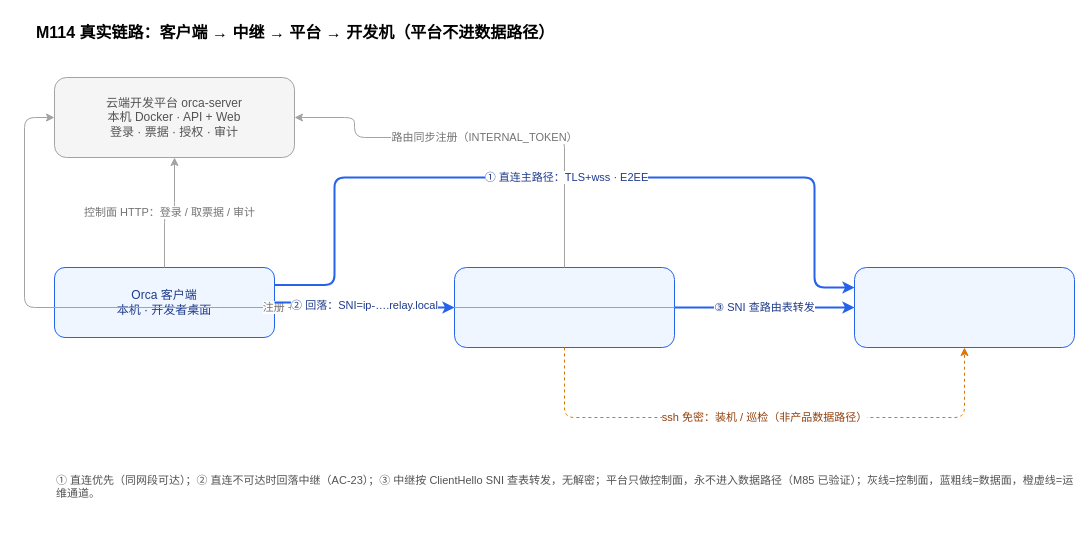
Image size: 1092x544. Some labels were removed from this diagram. Each missing label, with the centre of its shape:
"Orca 宿主（开发机） 192.168.2.202:宿主端口 TLS+wss · E2EE" belongs at pixel 964 307.
"中继 relay-01 100.67.197.59:7443 TLS SNI 转发 · 不解密" belongs at pixel 564 307.
